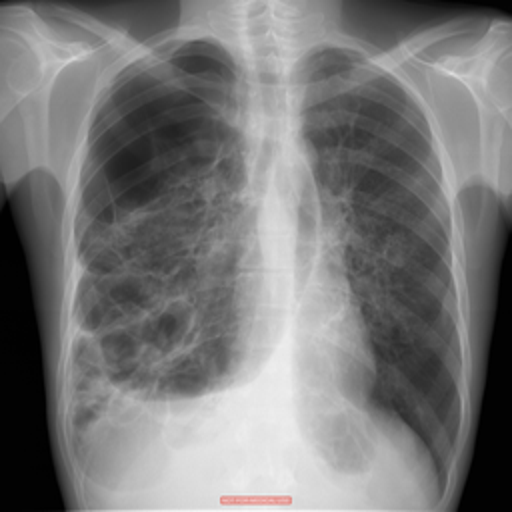TB: (67, 167, 219, 381)
